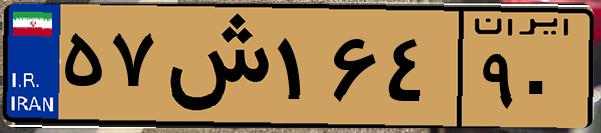0: (525, 38, 570, 115)
1: (270, 28, 330, 110)
4: (385, 28, 445, 110)
5: (57, 26, 110, 100)
6: (330, 28, 385, 110)
7: (110, 28, 158, 98)
9: (475, 38, 525, 113)
ش: (158, 12, 270, 120)
